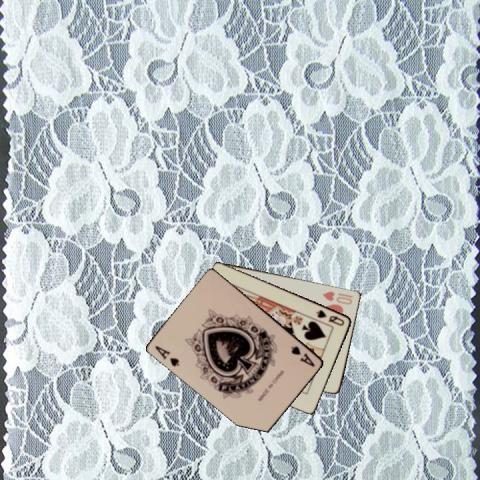10h: (320, 288, 354, 306)
As: (152, 343, 181, 368), (288, 343, 316, 368)
Qs: (313, 307, 346, 327)
